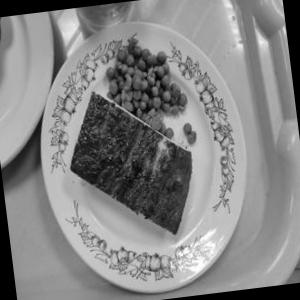casserole: (35, 24, 221, 262)
